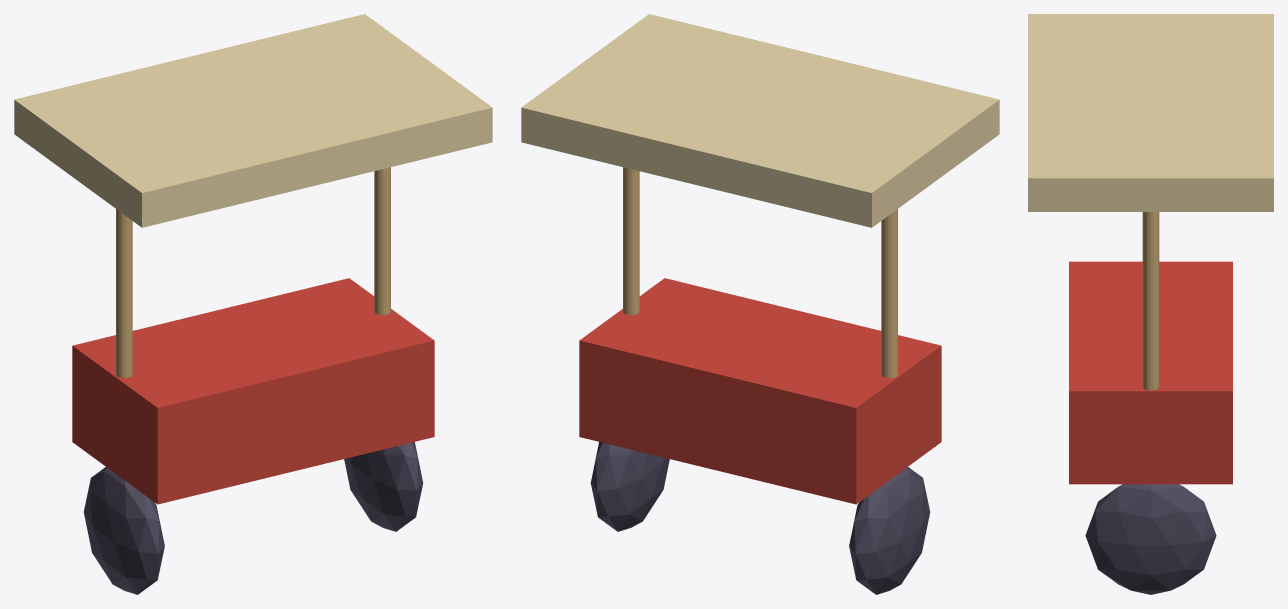
3 views of the same model, side by side, from view 1: azimuth 30°, elevation 25°; view 2: azimuth 150°, elevation 25°; view 3: azimuth 270°, elevation 25° (orthographic). The views are drawn at different scales.
Visible parts, largest first — view 1: RC-030 Market cart batched; view 2: RC-030 Market cart batched; view 3: RC-030 Market cart batched.
Boxes of the visible parts, x1=… form: RC-030 Market cart batched: x1=14, y1=14, x2=492, y2=594; RC-030 Market cart batched: x1=521, y1=14, x2=999, y2=594; RC-030 Market cart batched: x1=1028, y1=14, x2=1273, y2=594.
Bounding box in the file's own units: 1.9 × 2.36 × 1.2.
